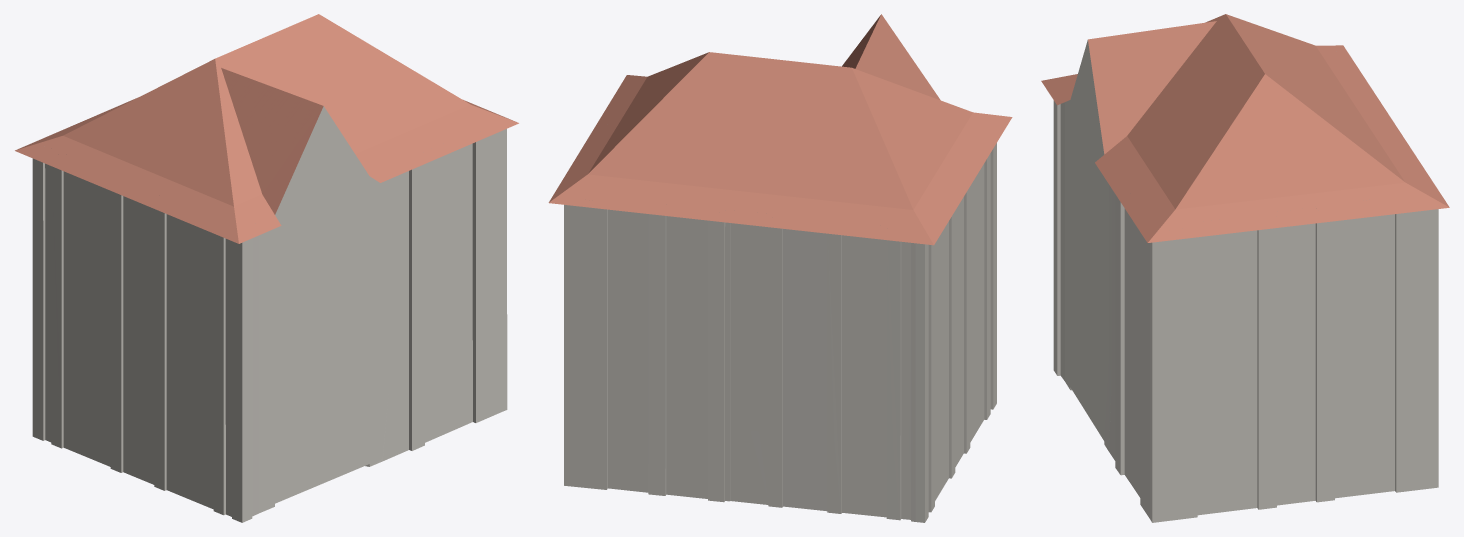
3 views of the same model, side by side, from view 1: azimuth 30°, elevation 25°; view 2: azimuth 150°, elevation 25°; view 3: azimuth 270°, elevation 25° (orthographic).
Parts seen in each view (by area): view 1: swisstopo:swissbuildings3d:758ec652-65e7-4408-a721-57b64c8de; view 2: swisstopo:swissbuildings3d:758ec652-65e7-4408-a721-57b64c8de; view 3: swisstopo:swissbuildings3d:758ec652-65e7-4408-a721-57b64c8de.
Boxes of the visible parts, bbox=[...] form: swisstopo:swissbuildings3d:758ec652-65e7-4408-a721-57b64c8de: bbox=[15, 14, 518, 522]; swisstopo:swissbuildings3d:758ec652-65e7-4408-a721-57b64c8de: bbox=[548, 14, 1012, 522]; swisstopo:swissbuildings3d:758ec652-65e7-4408-a721-57b64c8de: bbox=[1041, 14, 1449, 522].
Size of the model in its own units: 32.45 by 29.45 by 28.34.
